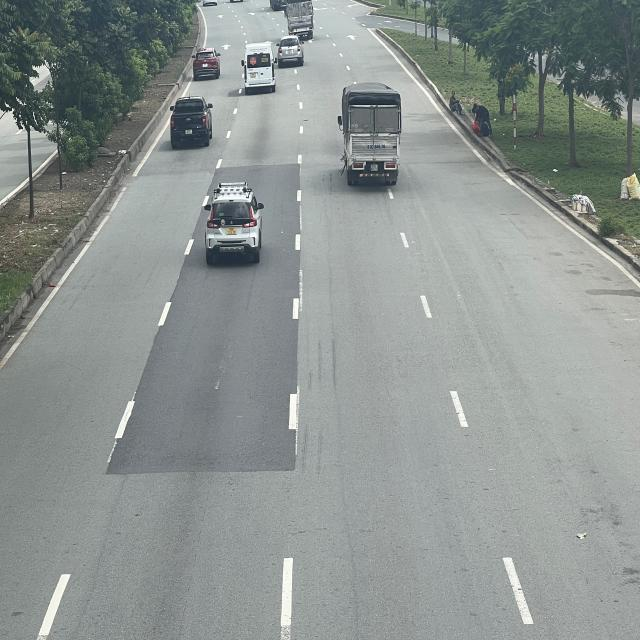car: (203, 183, 264, 262), (169, 97, 214, 146), (191, 47, 222, 78), (278, 35, 304, 65)
truck: (337, 81, 402, 185), (284, 3, 315, 36)
van: (241, 40, 276, 90)
